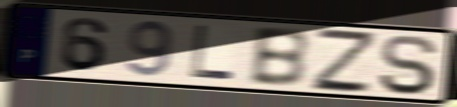6: (61, 16, 108, 73)
9: (124, 18, 176, 80)
B: (247, 26, 311, 89)
L: (188, 23, 238, 83)
S: (375, 33, 440, 97)
Z: (310, 25, 376, 95)
